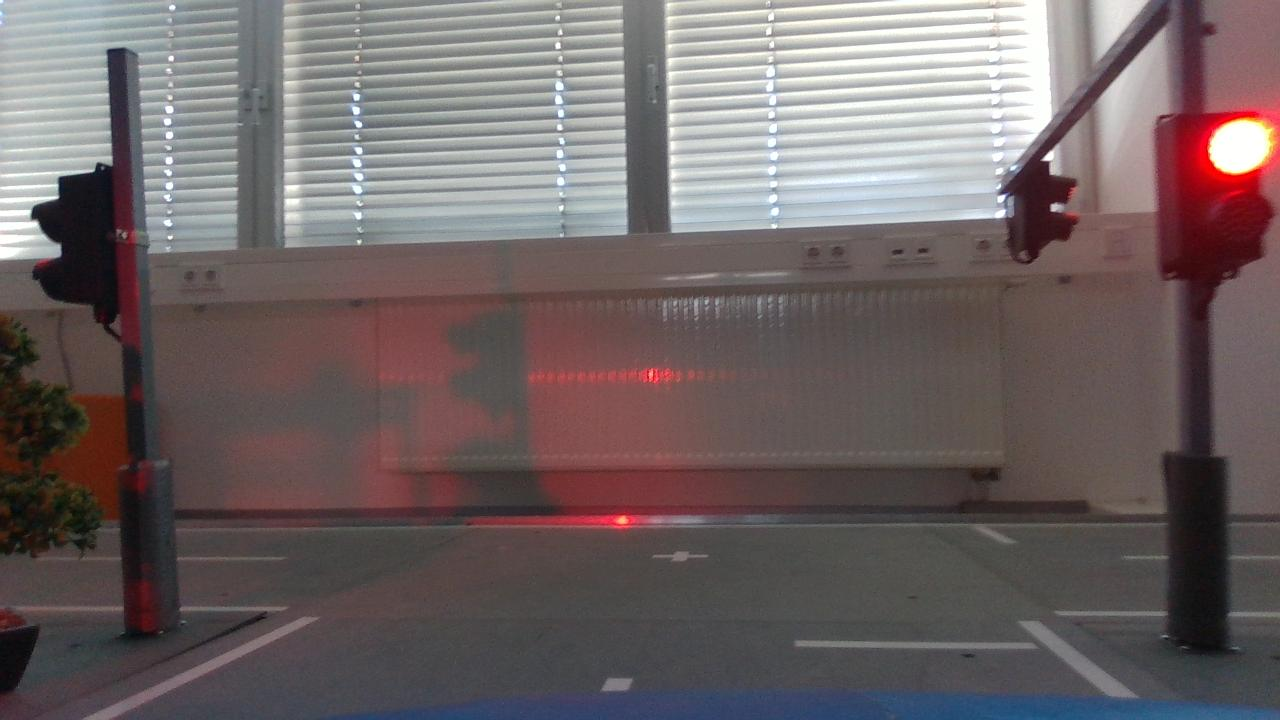traffic_light_red: (1138, 99, 1280, 297)
